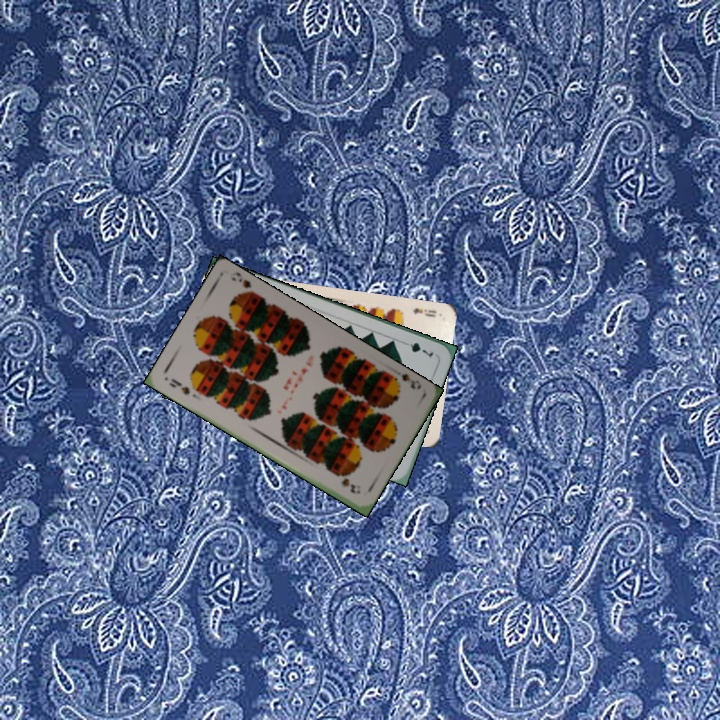E9: (409, 304, 439, 320)
G7: (398, 337, 436, 361)
S9: (386, 370, 424, 392), (165, 374, 192, 397)
